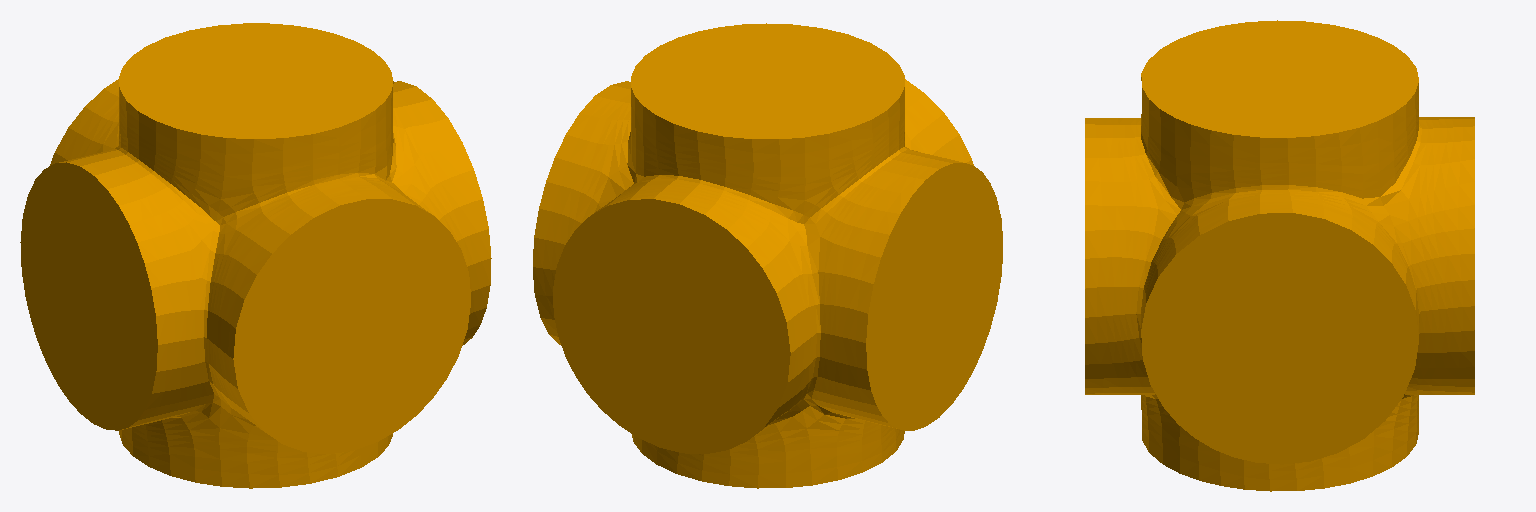
The robot description file, URDF, robot "object":
<robot name="object">
  <link name="object">
    <visual>
      <origin xyz="0 0 0"/>
      <geometry>
        <mesh filename="visual.obj" scale="1 1 1"/>
      </geometry>
    </visual>
    <collision>
      <origin xyz="0 0 0"/>
      <geometry>
        <mesh filename="visual.obj" scale="1 1 1"/>
      </geometry>
    </collision>
    <inertial>
      <mass value="0.05"/>
      <inertia ixx="5.635405080527728e-05" iyy="5.6360936675994975e-05" izz="5.635190775322252e-05" ixy="-1.1456550232369696e-09" ixz="1.862018407706775e-09" iyz="-1.2095298578313287e-09"/>
    </inertial>
  </link>
</robot>

--- Render facts (derived) ---
3 views of the same robot in one strip: view 1: azimuth 30°, elevation 25°; view 2: azimuth 150°, elevation 25°; view 3: azimuth 270°, elevation 25° (orthographic).
Model object with 1 links and 0 joints (none), rooted at object, posed all joints at 0.
Links seen in each view (by area): view 1: object; view 2: object; view 3: object.
Link boxes in pixels (x1,y1,x2,y2): object: (20,23,491,488); object: (533,23,1002,488); object: (1085,20,1474,491).
Size in the robot's own frame: 0.096 by 0.096 by 0.096 metres.
1 mesh visuals loaded from 1 distinct referenced files (1 OBJ).
